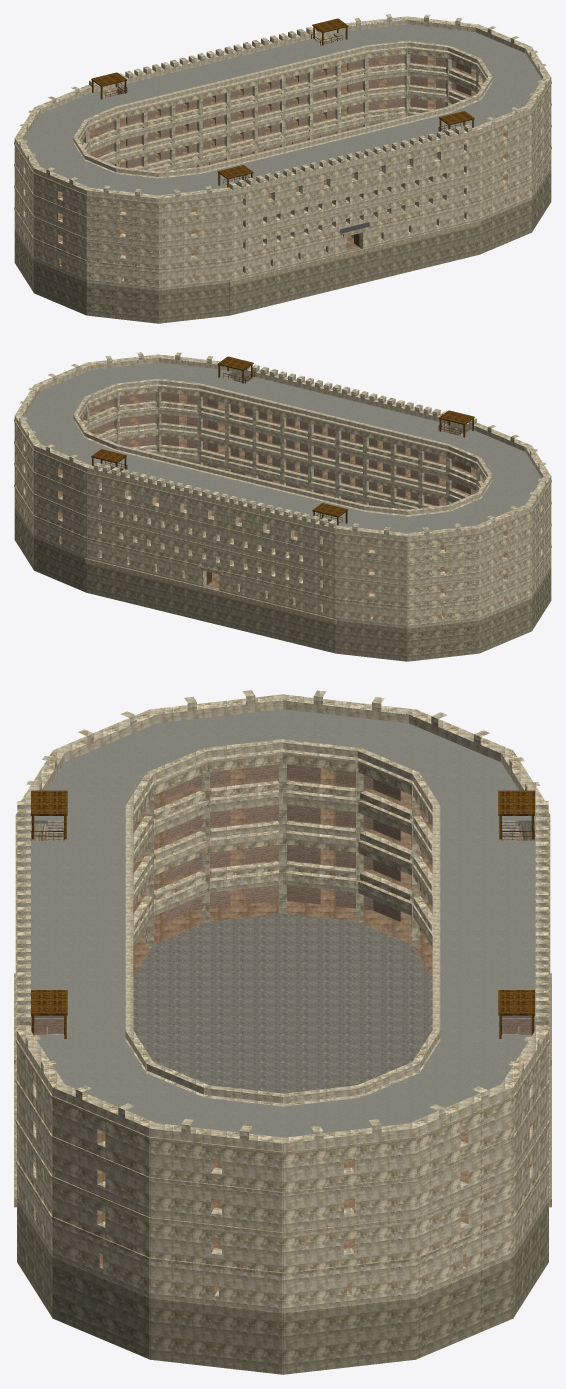
File: bw-keep.zfix-v14.lod0.glb
3 renders of one model, top to bottom at view 1: azimuth 30°, elevation 25°; view 2: azimuth 150°, elevation 25°; view 3: azimuth 270°, elevation 25°, orthographic. The views are drawn at different scales.
Parts seen in each view (by area): view 1: bw-keep; view 2: bw-keep; view 3: bw-keep.
Boxes of the visible parts, bbox=[...] form: bw-keep: bbox=[14, 14, 551, 323]; bw-keep: bbox=[14, 352, 551, 661]; bw-keep: bbox=[14, 690, 551, 1374].
Size of the model in its own units: 110 by 28.35 by 55.7.
9 materials, 8 textured.
